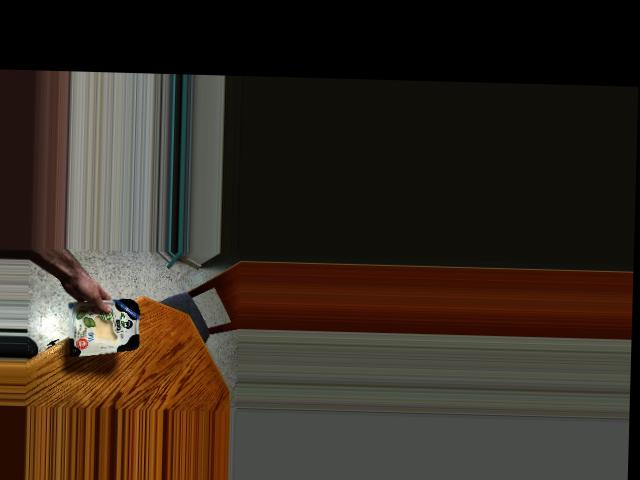cheese: (54, 292, 150, 349)
